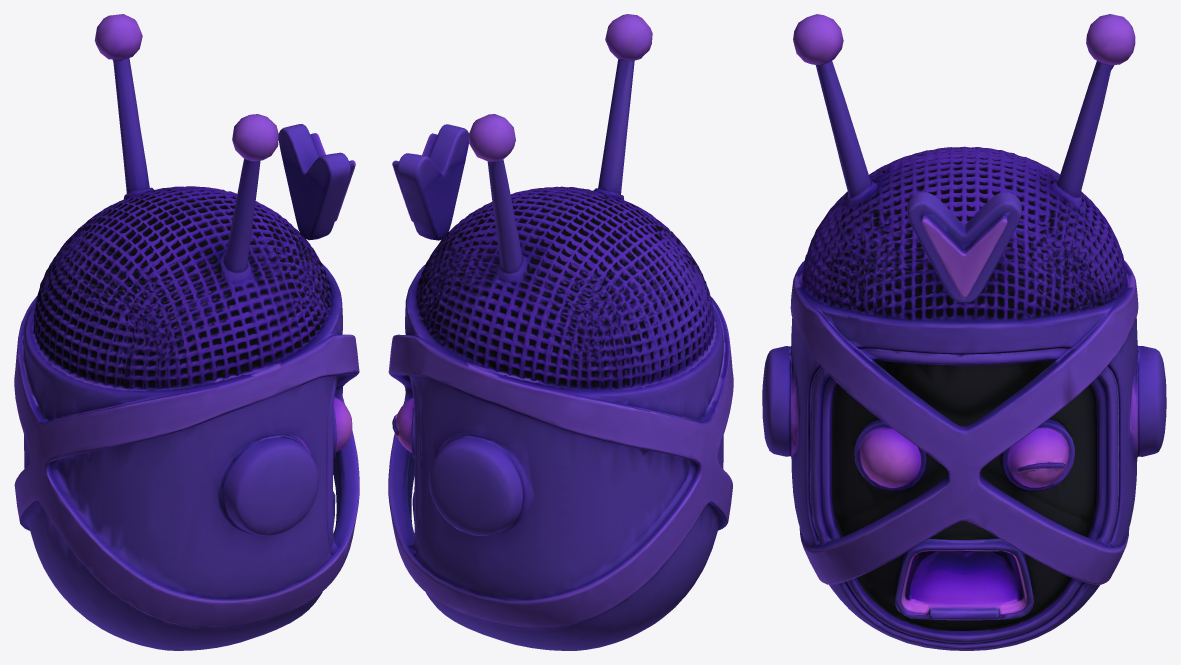
File: microphone.glb
The picture shows the model from 3 angles, left to right: view 1: azimuth 30°, elevation 25°; view 2: azimuth 150°, elevation 25°; view 3: azimuth 270°, elevation 25°; orthographic projection. The views are drawn at different scales.
Parts seen in each view (by area): view 1: tripo_node_059594fd-d3f6-4ed5-a9d3-c40deb53a03e; view 2: tripo_node_059594fd-d3f6-4ed5-a9d3-c40deb53a03e; view 3: tripo_node_059594fd-d3f6-4ed5-a9d3-c40deb53a03e.
Boxes of the visible parts, x1,y1,x2,y2 form: tripo_node_059594fd-d3f6-4ed5-a9d3-c40deb53a03e: (14,14,359,650); tripo_node_059594fd-d3f6-4ed5-a9d3-c40deb53a03e: (388,14,733,650); tripo_node_059594fd-d3f6-4ed5-a9d3-c40deb53a03e: (762,14,1166,650).
Bounding box in the file's own units: 0.5423 × 0.9797 × 0.5923.
Materials: 1 (1 with a texture image).
